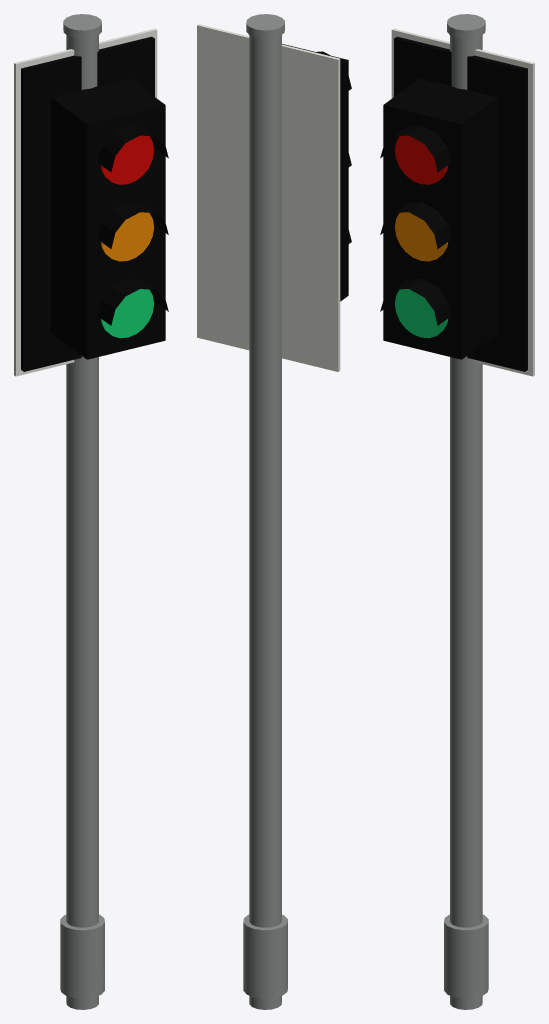
The model's file is signal_car.glb.
The picture shows the model from 3 angles, left to right: view 1: azimuth 30°, elevation 25°; view 2: azimuth 150°, elevation 25°; view 3: azimuth 330°, elevation 25°; orthographic projection.
Visible parts, largest first — view 1: pole, lamp_amber, lamp_green, lamp_red; view 2: pole; view 3: pole, lamp_amber, lamp_red, lamp_green.
Boxes of the visible parts, left/top/right/bottom form: pole: left=14, top=14, right=168, bottom=1009; lamp_amber: left=101, top=212, right=153, bottom=261; lamp_green: left=101, top=289, right=153, bottom=338; lamp_red: left=101, top=135, right=153, bottom=184; pole: left=197, top=14, right=351, bottom=1009; pole: left=380, top=14, right=534, bottom=1009; lamp_amber: left=395, top=212, right=447, bottom=261; lamp_red: left=395, top=135, right=447, bottom=184; lamp_green: left=395, top=289, right=447, bottom=338.
Size of the model in its own units: 0.54 by 3.58 by 0.455.
